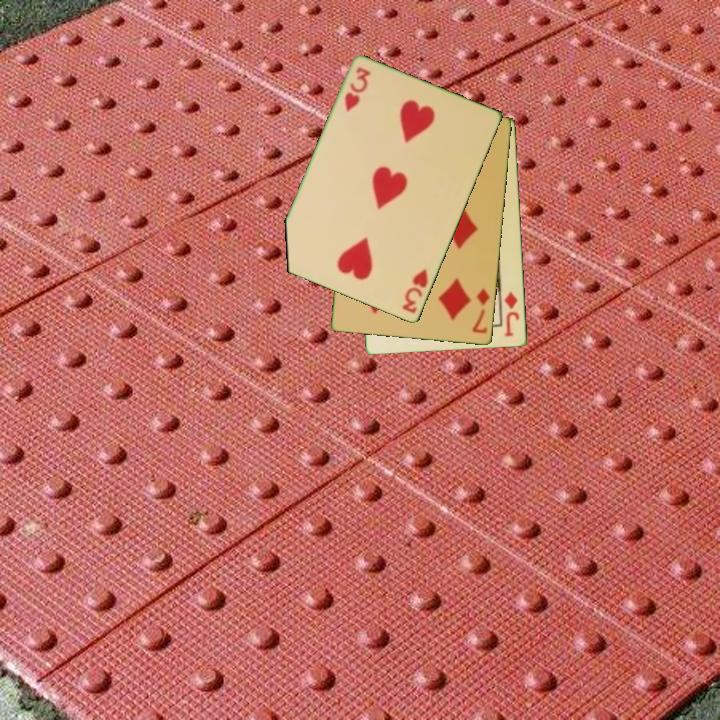3h: (398, 266, 431, 317), (341, 64, 374, 115)
7d: (469, 285, 493, 336)
Jd: (501, 288, 522, 340)
